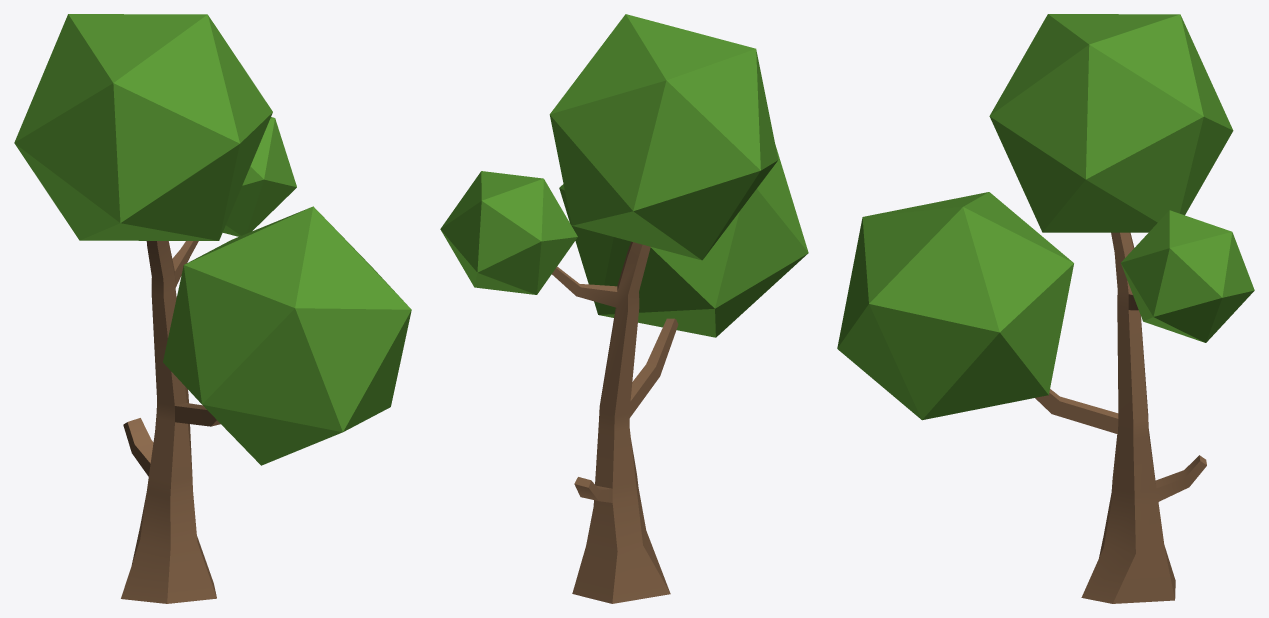
Rendered from Tree.fbx.
The picture shows the model from 3 angles, left to right: view 1: azimuth 30°, elevation 25°; view 2: azimuth 150°, elevation 25°; view 3: azimuth 270°, elevation 25°; orthographic projection. The views are drawn at different scales.
Parts seen in each view (by area): view 1: pPlatonic1, pPlatonic3, pCylinder8, pPlatonic2; view 2: pPlatonic1, pCylinder8, pPlatonic3, pPlatonic2; view 3: pPlatonic1, pPlatonic3, pCylinder8, pPlatonic2.
Boxes of the visible parts, bbox=[...] form: pPlatonic1: bbox=[14, 14, 272, 240]; pPlatonic3: bbox=[163, 206, 411, 465]; pCylinder8: bbox=[121, 241, 220, 603]; pPlatonic2: bbox=[223, 117, 296, 236]; pPlatonic1: bbox=[549, 14, 778, 260]; pCylinder8: bbox=[552, 241, 678, 603]; pPlatonic3: bbox=[559, 145, 808, 337]; pPlatonic2: bbox=[440, 171, 577, 294]; pPlatonic1: bbox=[989, 14, 1233, 232]; pPlatonic3: bbox=[837, 192, 1073, 420]; pCylinder8: bbox=[1035, 232, 1206, 603]; pPlatonic2: bbox=[1121, 210, 1254, 342].
Size of the model in its own units: 0.0211 by 0.0399 by 0.0274.
